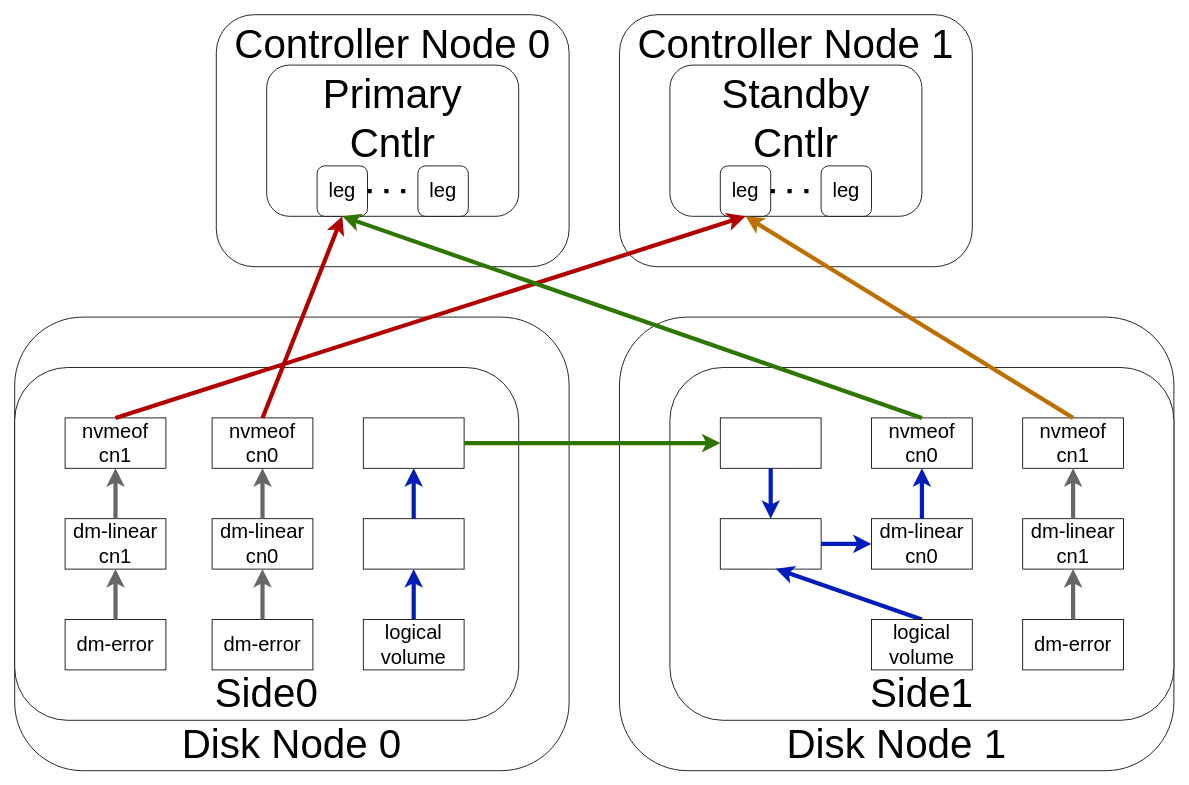
This 1189x785 diagram has some shape labels left out. The shapes that lost their labels are listed below. From the top down, each one's centre as x and y in pixels, then its label:
point (413, 442): nvmeof dn1
point (770, 442): nvmeof dev
point (413, 543): dm-linear src
point (770, 543): dm-clone
